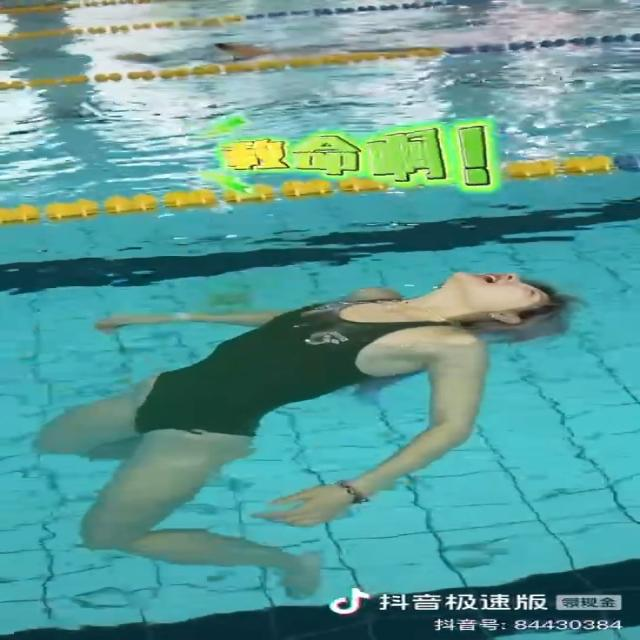Drowning: (35, 271, 573, 598)
